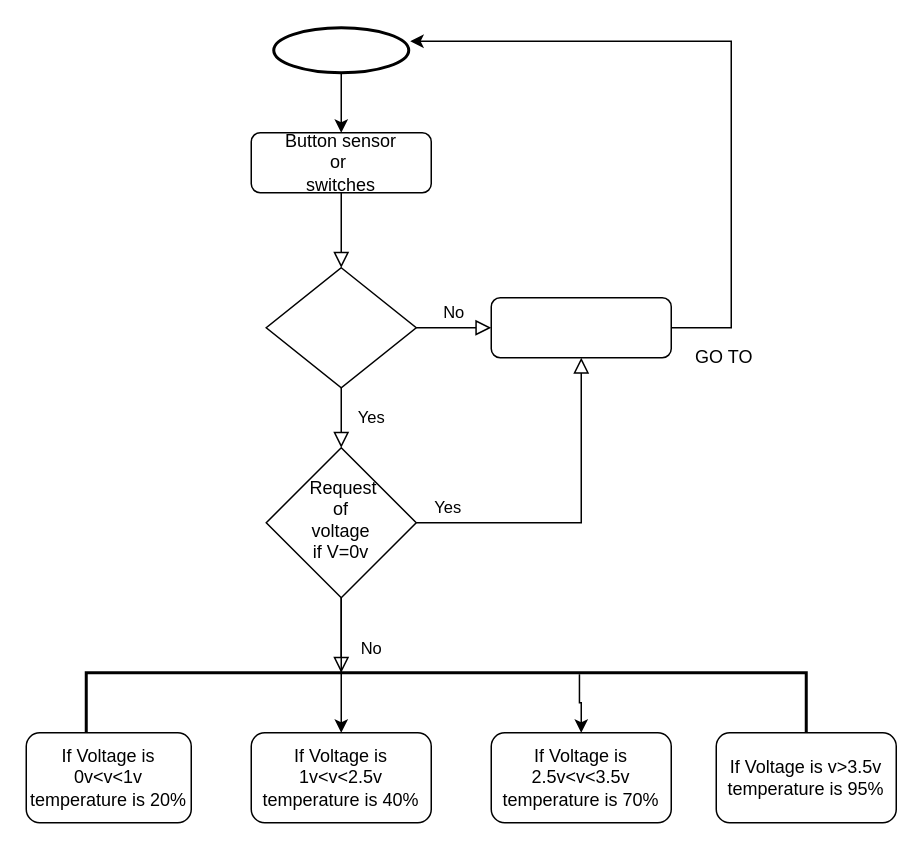
The diagram is 923 pixels wide and 849 high, and some of its shapes have lost their labels. The centre of each missing label's shape, as x and y in pixels:
Both the switches are ON: pixel 340 327
NO temperature change: pixel 580 327
START: pixel 341 50
